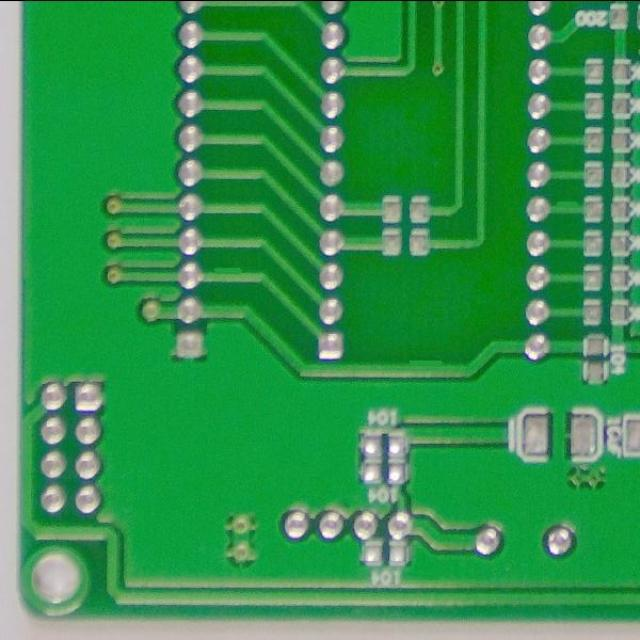spur: (400, 350, 446, 379), (210, 264, 248, 282), (552, 196, 582, 218)
